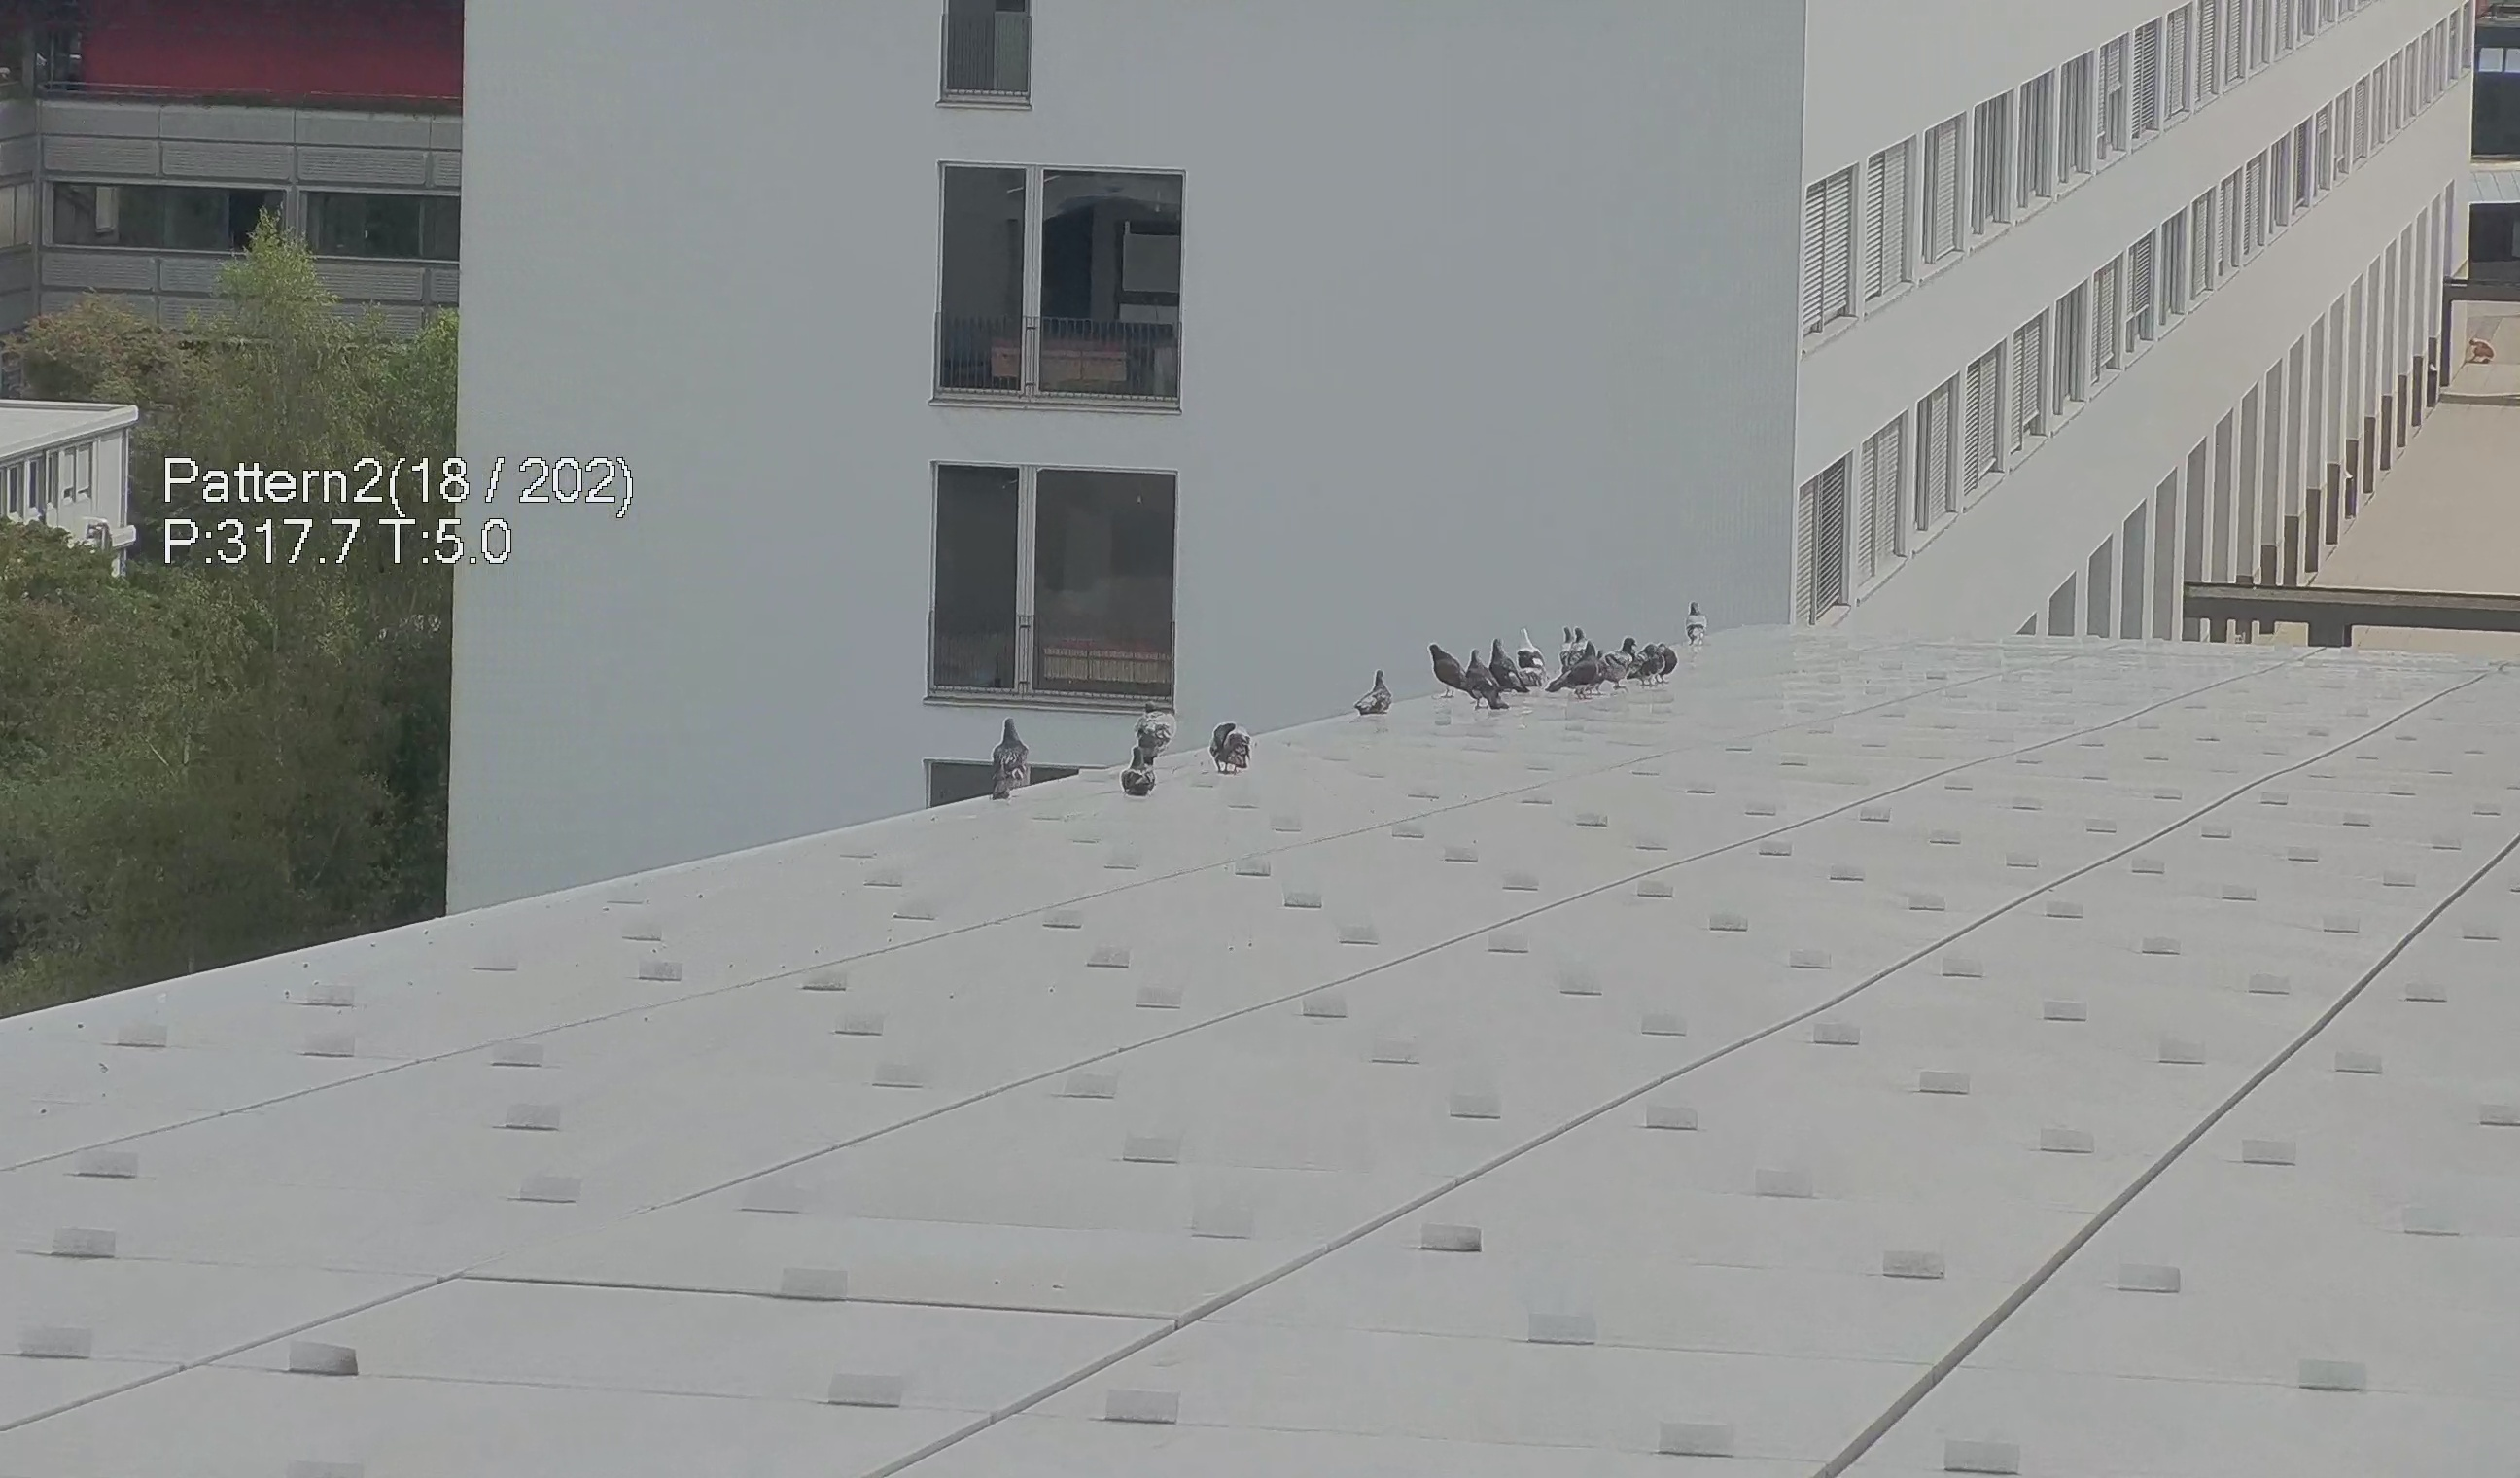Pigeon: (983, 711, 1036, 809), (1421, 632, 1477, 709), (1549, 640, 1604, 697), (1467, 644, 1505, 718), (1488, 633, 1526, 706), (1206, 723, 1256, 779), (1354, 670, 1396, 730), (1134, 700, 1178, 757), (1509, 625, 1544, 691), (1606, 632, 1644, 688), (1117, 746, 1154, 801), (1630, 642, 1664, 688), (1679, 598, 1709, 649), (1651, 642, 1679, 679), (1565, 630, 1591, 658), (1560, 623, 1576, 669)
